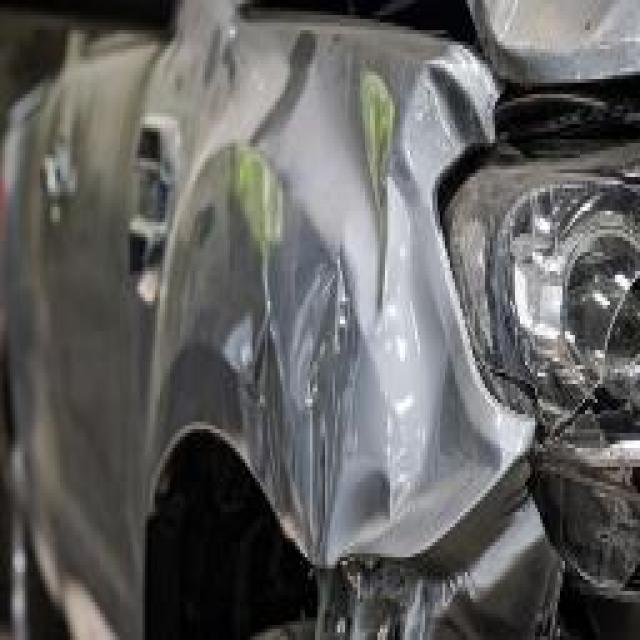Bonnet: (468, 8, 640, 72)
Bumper: (342, 565, 640, 640)
Fender: (202, 41, 480, 553)
Light: (478, 169, 640, 422)
